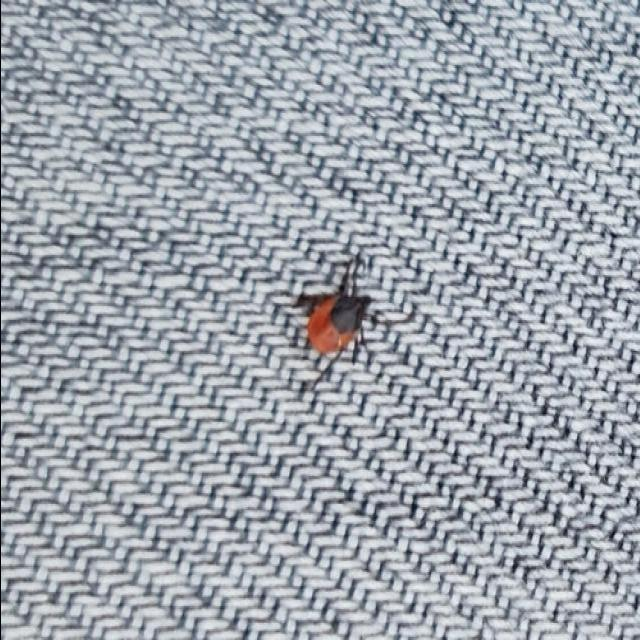Ixodes Ricinus-F: (282, 257, 379, 380)
